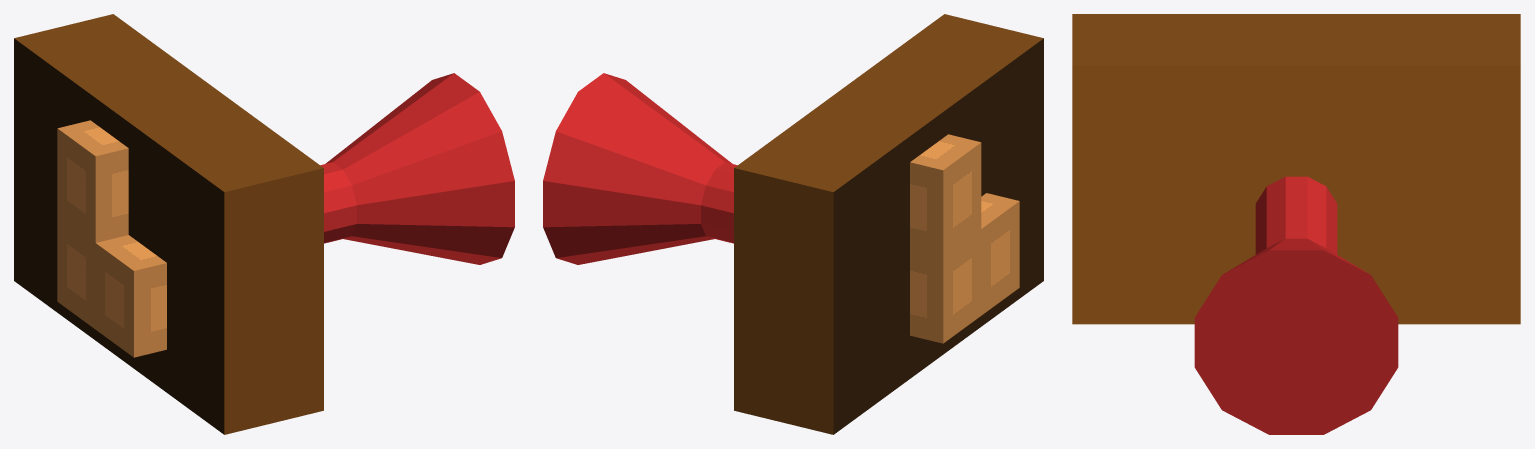
Rendered from soul_stamp.glb.
3 views of the same model, side by side, from view 1: azimuth 30°, elevation 25°; view 2: azimuth 150°, elevation 25°; view 3: azimuth 270°, elevation 25° (orthographic). The views are drawn at different scales.
Visible parts, largest first — view 1: base, cone, cuboid (×3), cylinder; view 2: base, cone, cuboid (×3), cylinder; view 3: base, cone, cylinder.
Part boxes in pixels (left/top/right/bottom): base: left=14, top=14, right=323, bottom=434; cone: left=325, top=73, right=514, bottom=264; cuboid (×3): left=57, top=120, right=166, bottom=357; cylinder: left=320, top=162, right=356, bottom=243; base: left=734, top=14, right=1043, bottom=434; cone: left=543, top=73, right=732, bottom=264; cuboid (×3): left=910, top=134, right=1019, bottom=343; cylinder: left=701, top=162, right=737, bottom=243; base: left=1072, top=14, right=1520, bottom=324; cone: left=1194, top=238, right=1398, bottom=434; cylinder: left=1255, top=176, right=1337, bottom=254.
Size of the model in its own units: 0.1438 by 0.0875 by 0.1375.
Materials: 3 (3 with a texture image).
